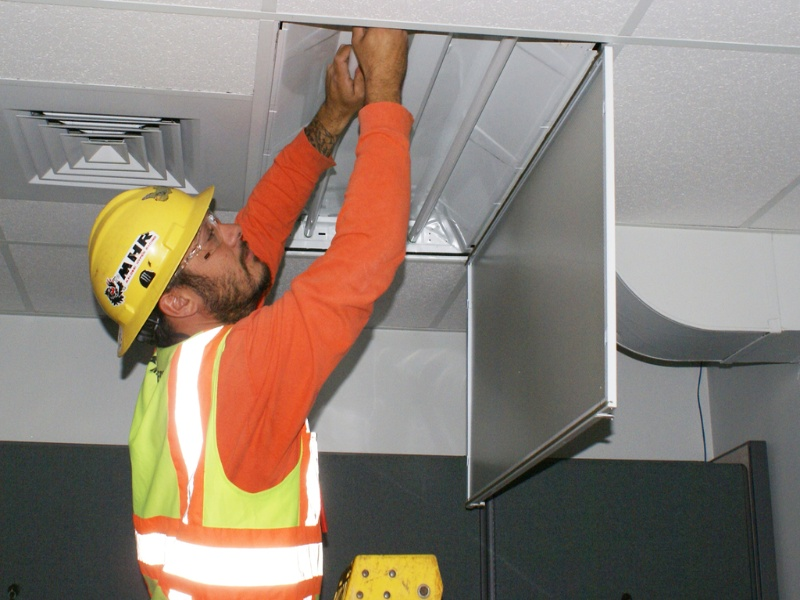Baret: (87, 184, 214, 357)
